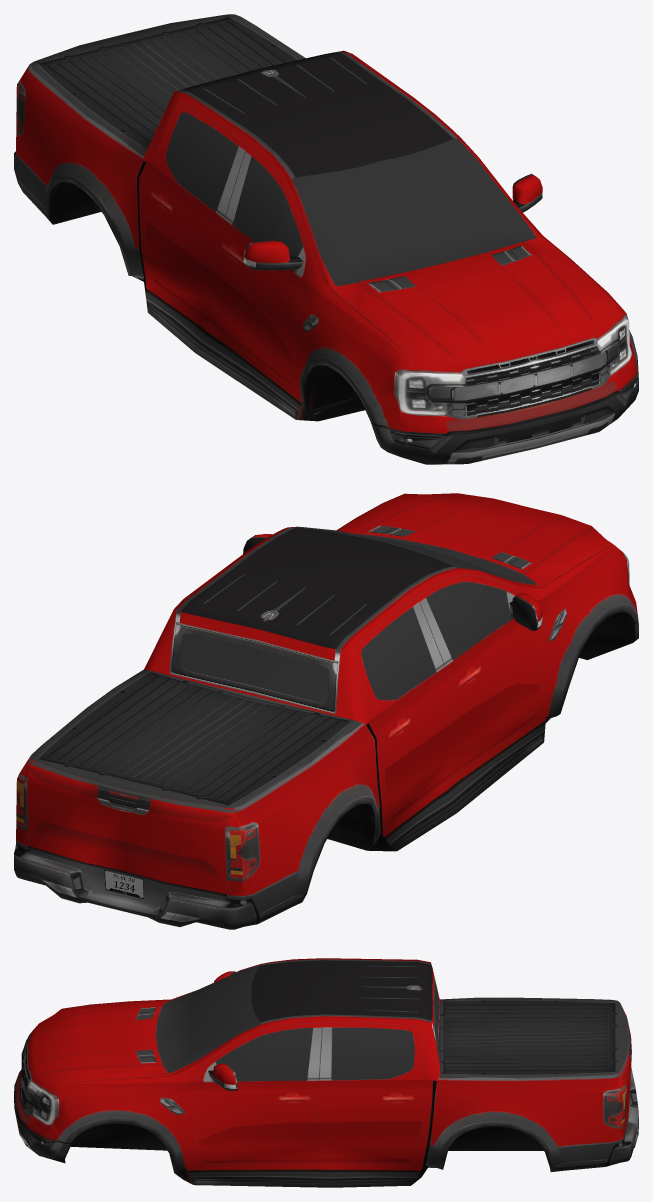
File: fod car.fbx
The picture shows the model from 3 angles, top to bottom: view 1: azimuth 30°, elevation 25°; view 2: azimuth 150°, elevation 25°; view 3: azimuth 270°, elevation 25°; orthographic projection. The views are drawn at different scales.
Visible parts, largest first — view 1: fod_car; view 2: fod_car; view 3: fod_car.
Part boxes in pixels (x1=…): fod_car: x1=14, y1=14, x2=638, y2=464; fod_car: x1=14, y1=493, x2=638, y2=929; fod_car: x1=14, y1=958, x2=638, y2=1187.
Size of the model in its own units: 994 by 680 by 2481.
Materials: 1 (1 with a texture image).
